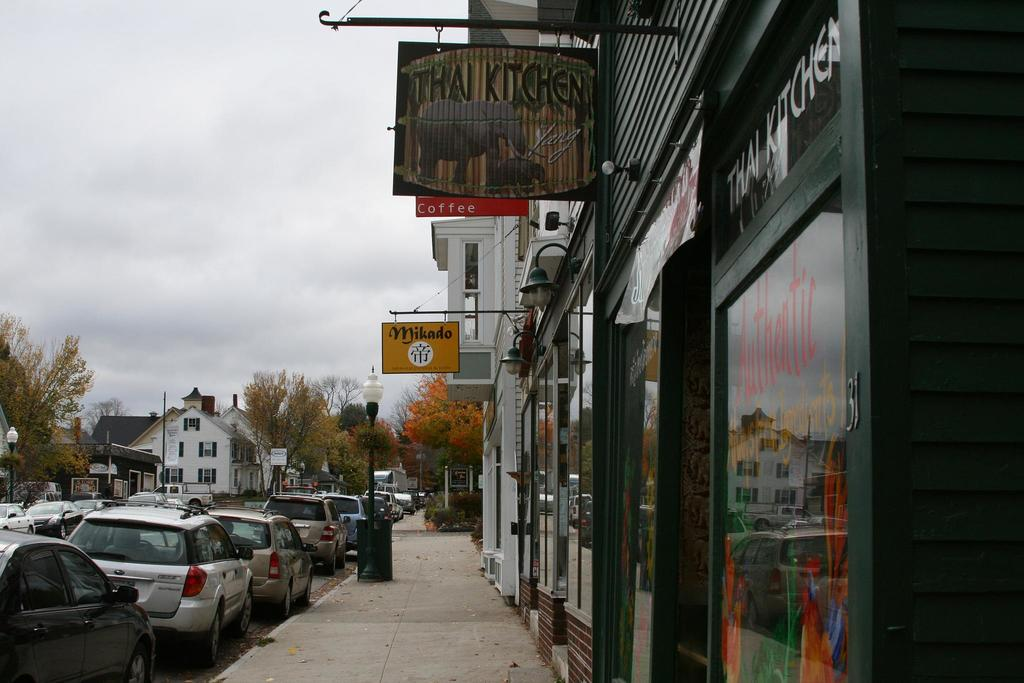Car: (7, 483, 457, 682)
